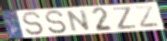2: (91, 7, 115, 33)
N: (66, 9, 92, 33)
S: (20, 11, 46, 37), (43, 10, 69, 35)
Z: (112, 6, 138, 31), (134, 5, 161, 29)
